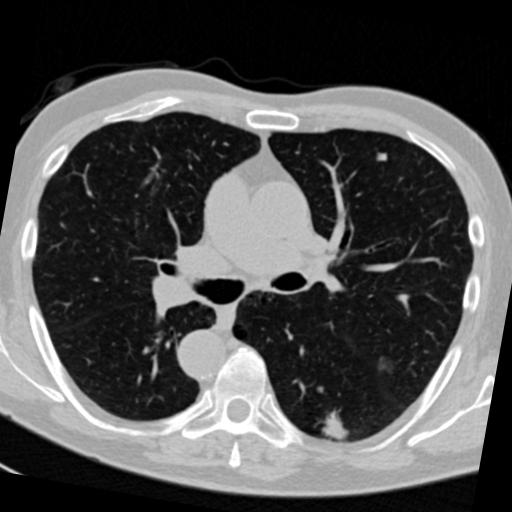nodule: (319, 409, 354, 444)
